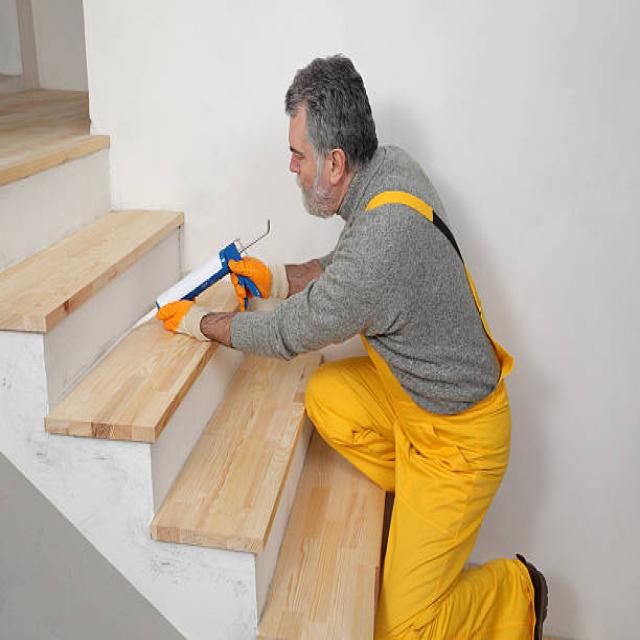gloves: (226, 251, 289, 311), (155, 292, 211, 340)
